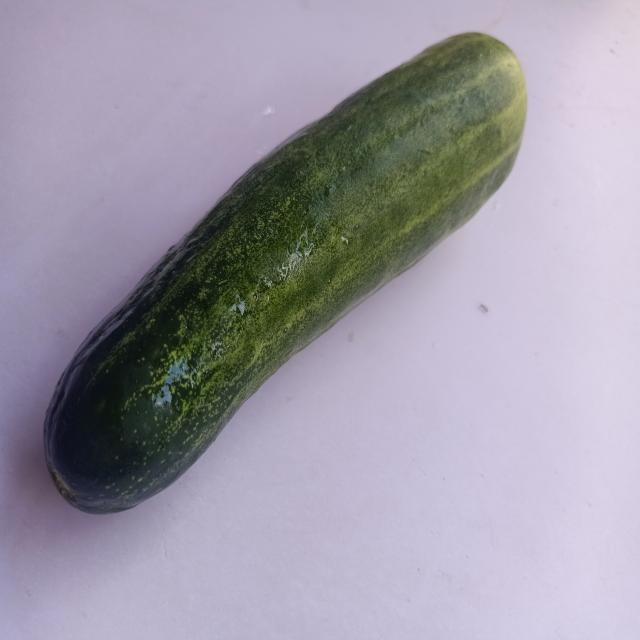Cucumber: (7, 0, 582, 591)
